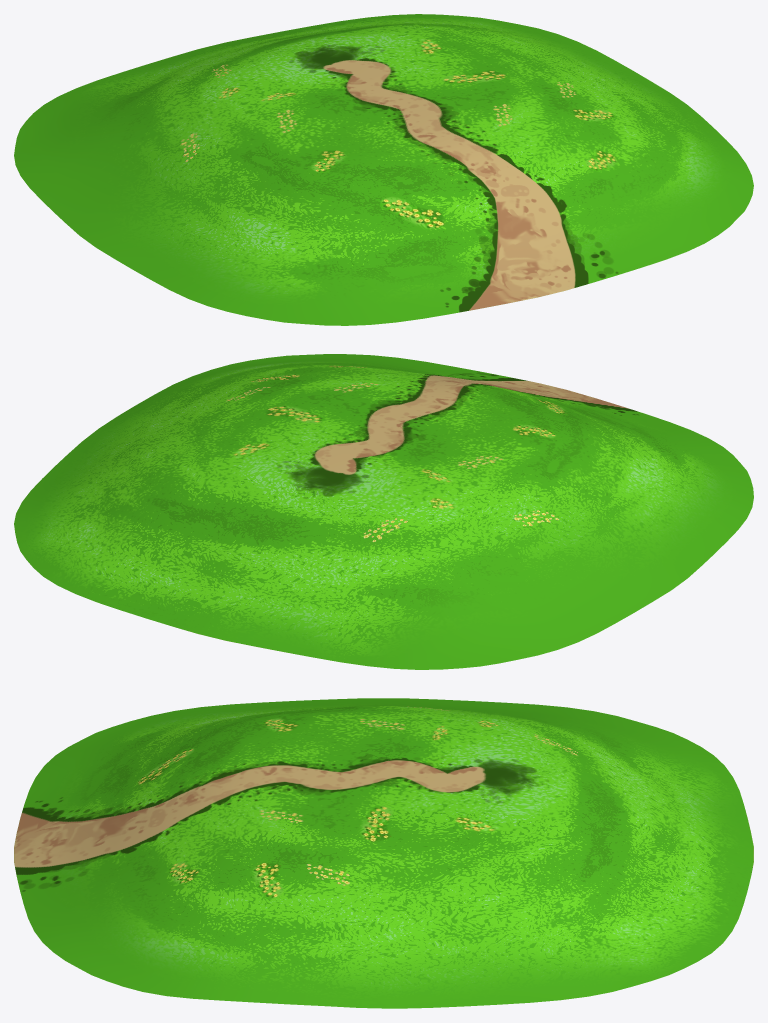
The model's file is GrassHills2.glb.
The picture shows the model from 3 angles, top to bottom: view 1: azimuth 30°, elevation 25°; view 2: azimuth 150°, elevation 25°; view 3: azimuth 270°, elevation 25°; orthographic projection. The views are drawn at different scales.
Parts seen in each view (by area): view 1: Hill; view 2: Hill; view 3: Hill.
Part boxes in pixels (x1,y1,x2,y2): Hill: (14, 14, 753, 325); Hill: (14, 354, 753, 669); Hill: (14, 698, 753, 1008).
Bounding box in the file's own units: 53.31 × 6.66 × 53.34.
1 material, 1 textured.
